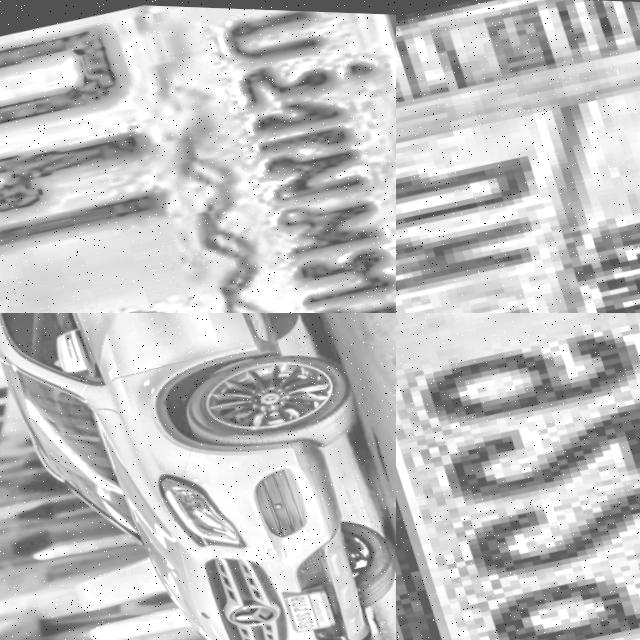license-plate: (0, 0, 396, 313), (396, 313, 640, 640), (396, 0, 640, 313), (268, 579, 334, 634)
